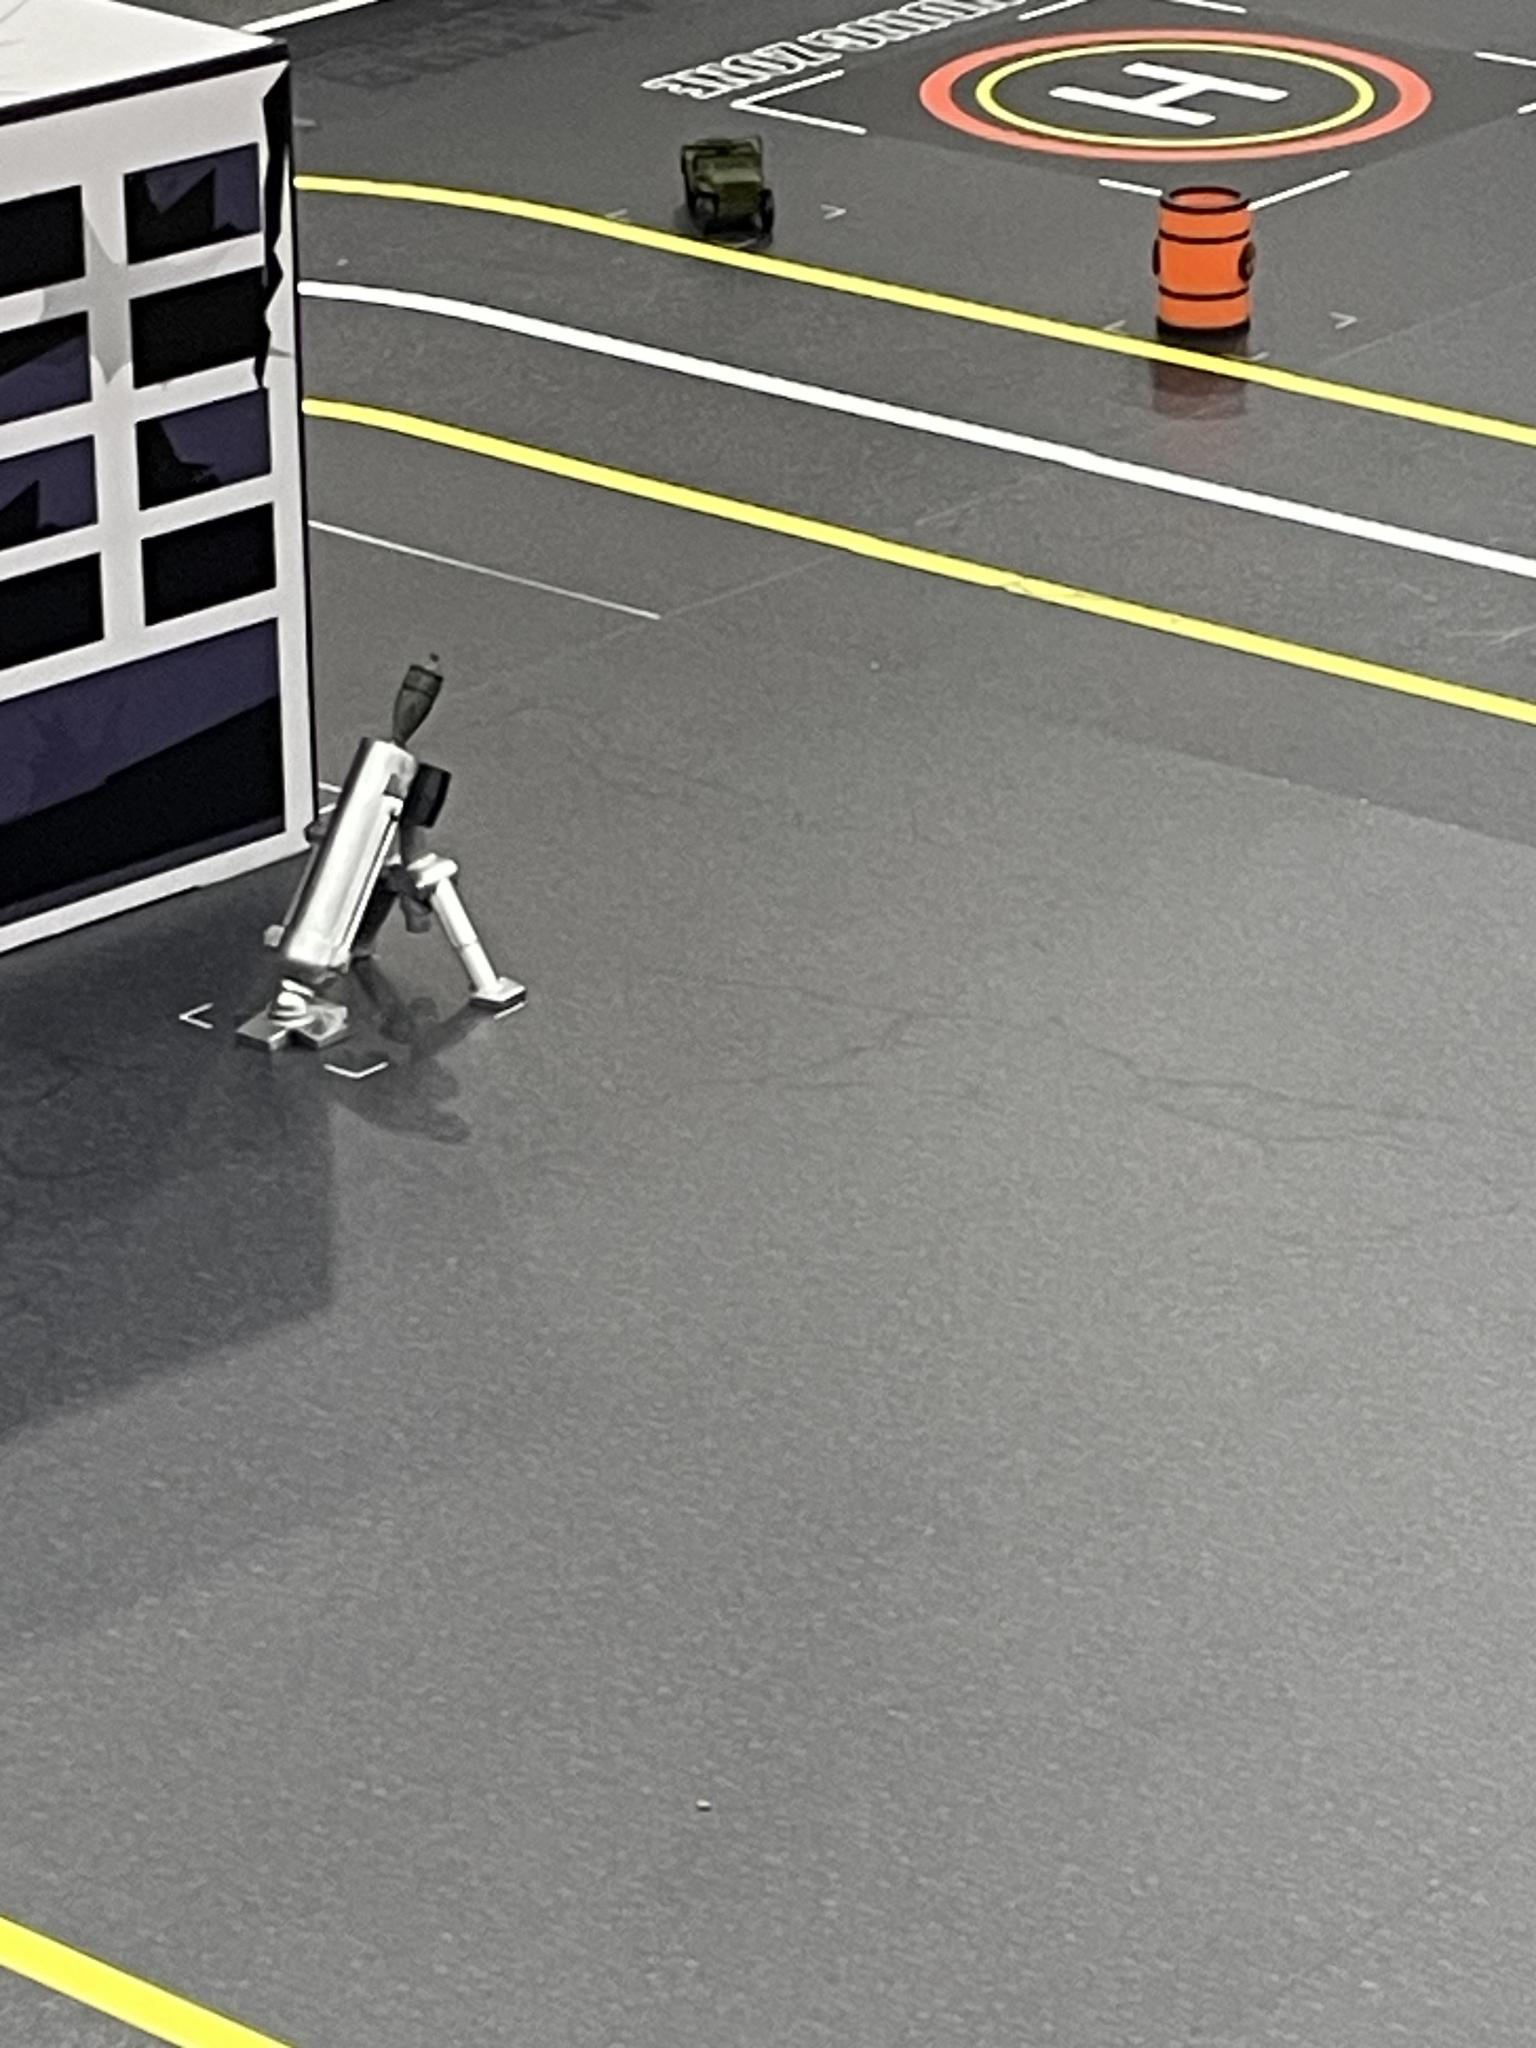Car: (678, 137, 783, 235)
Hazmat: (1146, 189, 1278, 361)
Mortar: (236, 648, 528, 1087)
